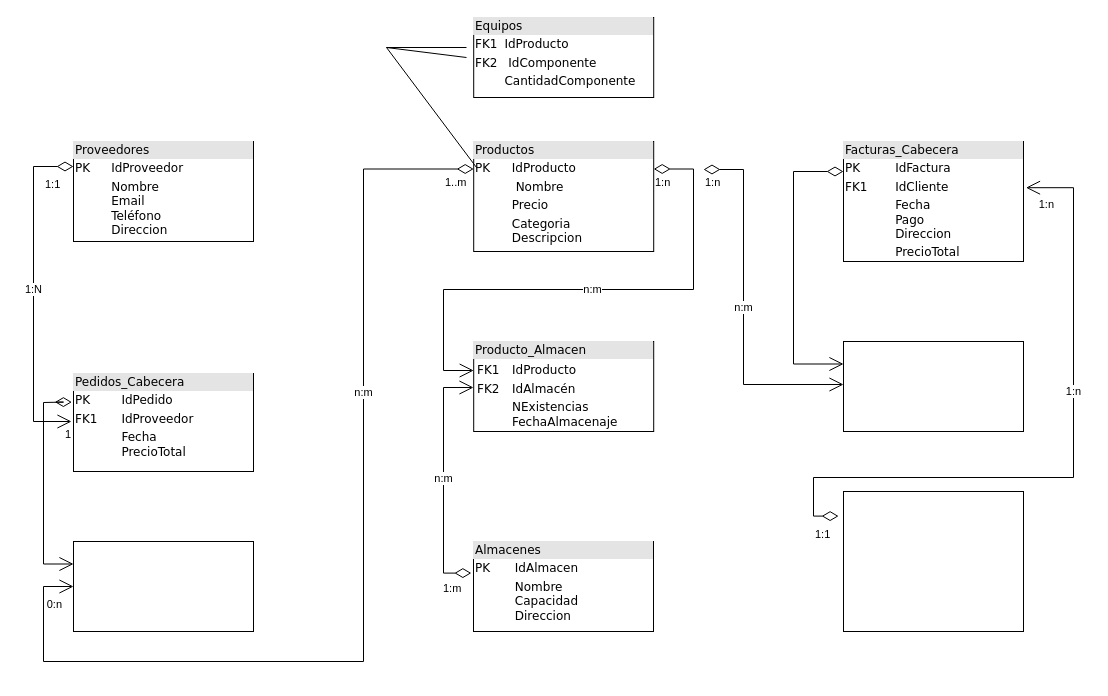
Some shapes in this 1108 by 696 pixel diagram are drawn without their labels. The box of each missing label's shape, as (x1, y1, x2, y2) in pixels:
Clientes PK IdCliente Nombre Apellidos Edad Sexo Email Telefono Direccion: (842, 490, 1024, 632)
Facturas_Compuesto FK1 IdFactura FK2 IdProducto Cantidad Precio: (842, 340, 1024, 432)
Pedidos_Compuesto FK1 IdPedido FK2 IdProducto Cantidad Precio: (72, 540, 254, 632)
